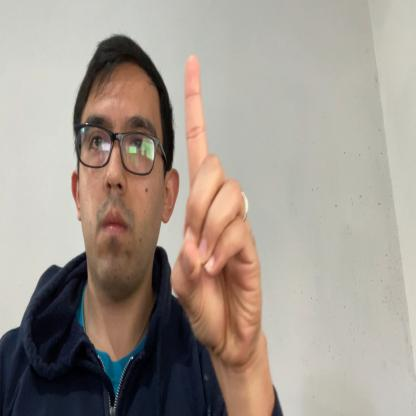D: (171, 55, 262, 367)
